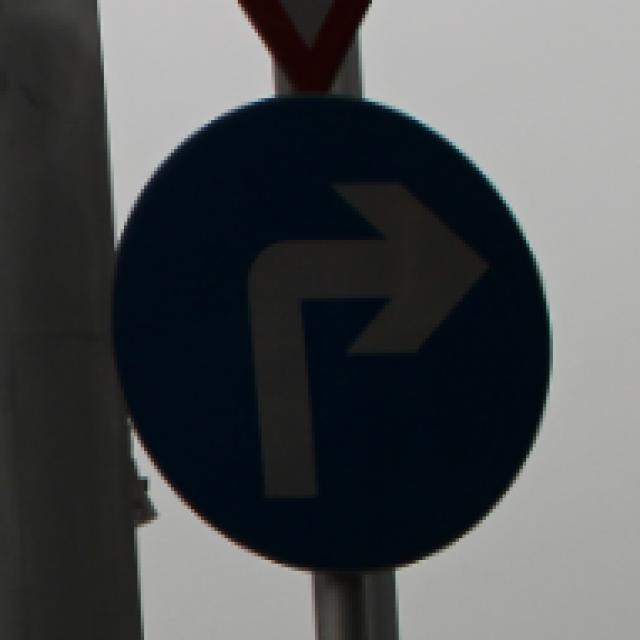Right: (117, 85, 558, 568)
